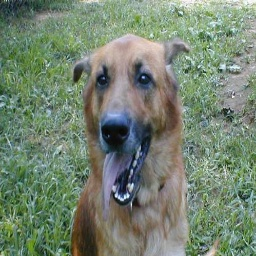dog: (56, 29, 203, 256)
